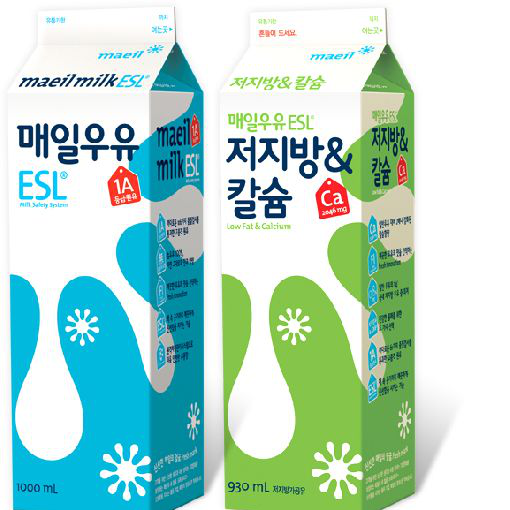milk: (2, 6, 205, 510), (215, 7, 416, 510)
